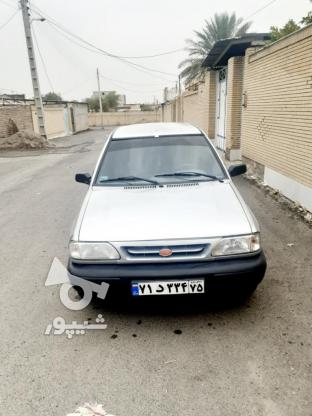car: (133, 277, 206, 296)
